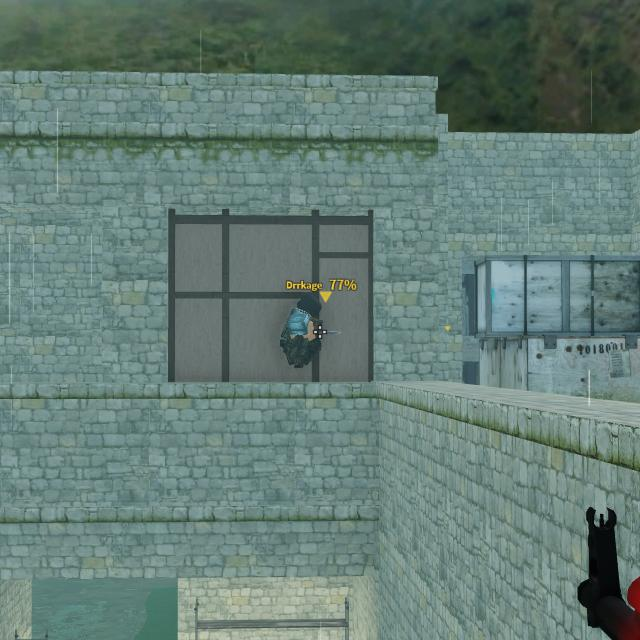Head: (297, 295, 322, 316)
Player: (280, 293, 324, 369)
